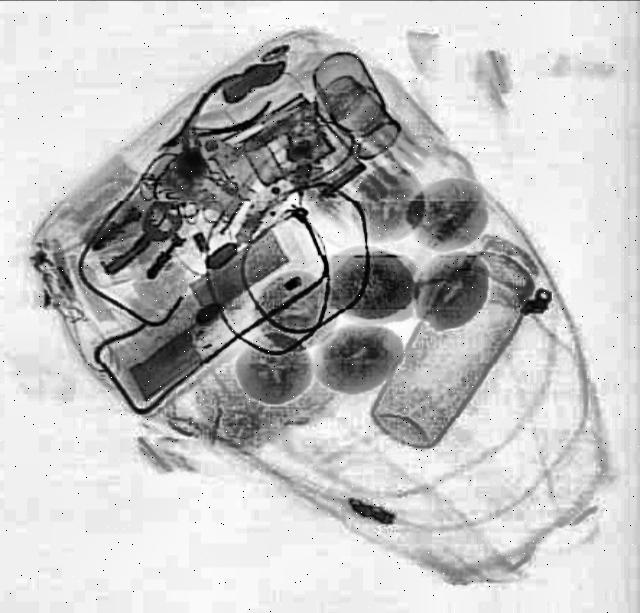Pliers: (138, 65, 282, 176)
